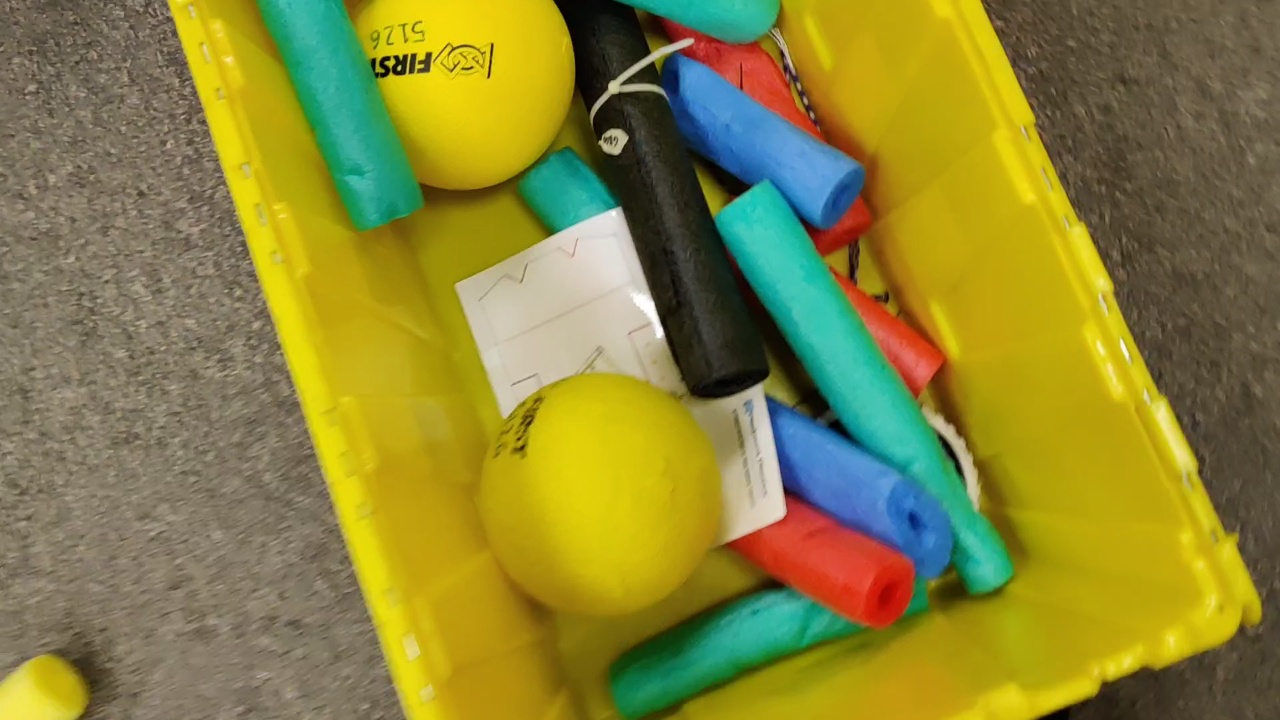Ball: (477, 374, 725, 613), (334, 1, 576, 193)
